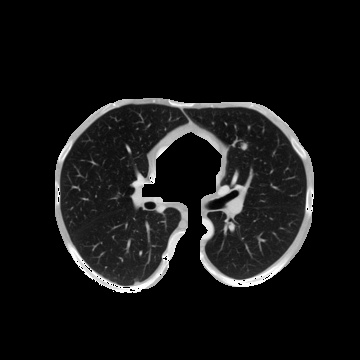PN: (240, 142, 248, 150)
